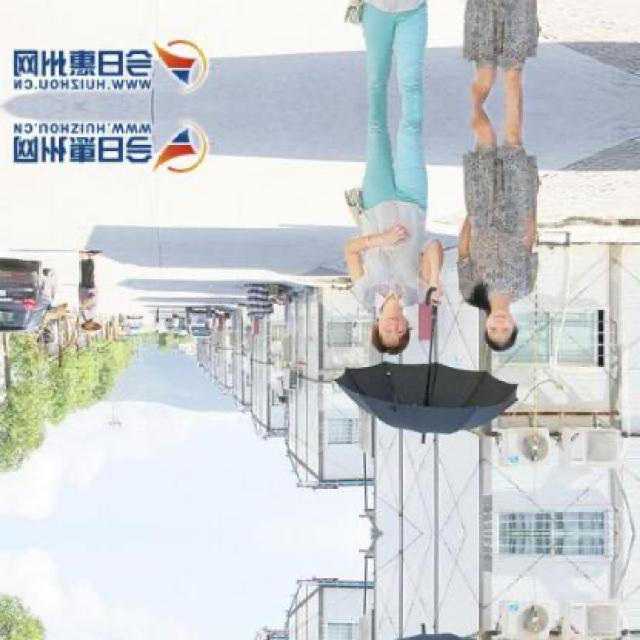sin casco: (436, 294, 514, 354), (357, 312, 432, 368)
